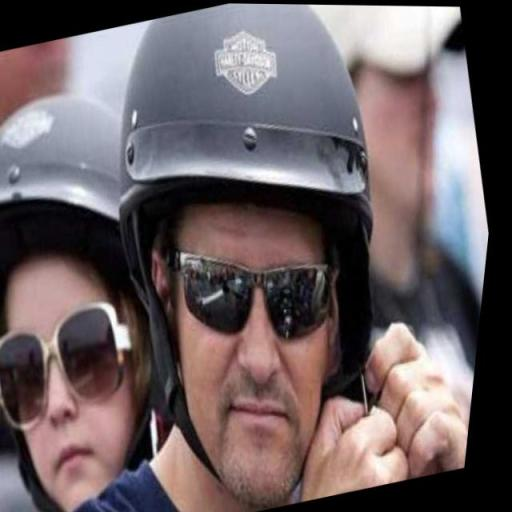Helmet: (58, 0, 472, 511), (1, 44, 228, 512)
